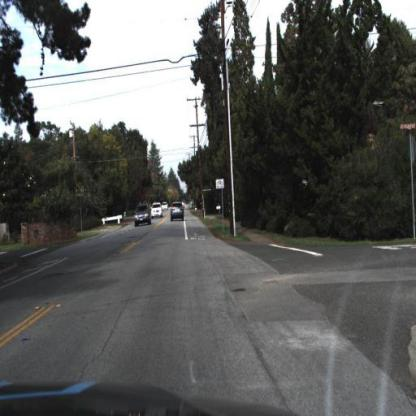car: (132, 203, 151, 227), (170, 201, 187, 224), (152, 201, 164, 222)
